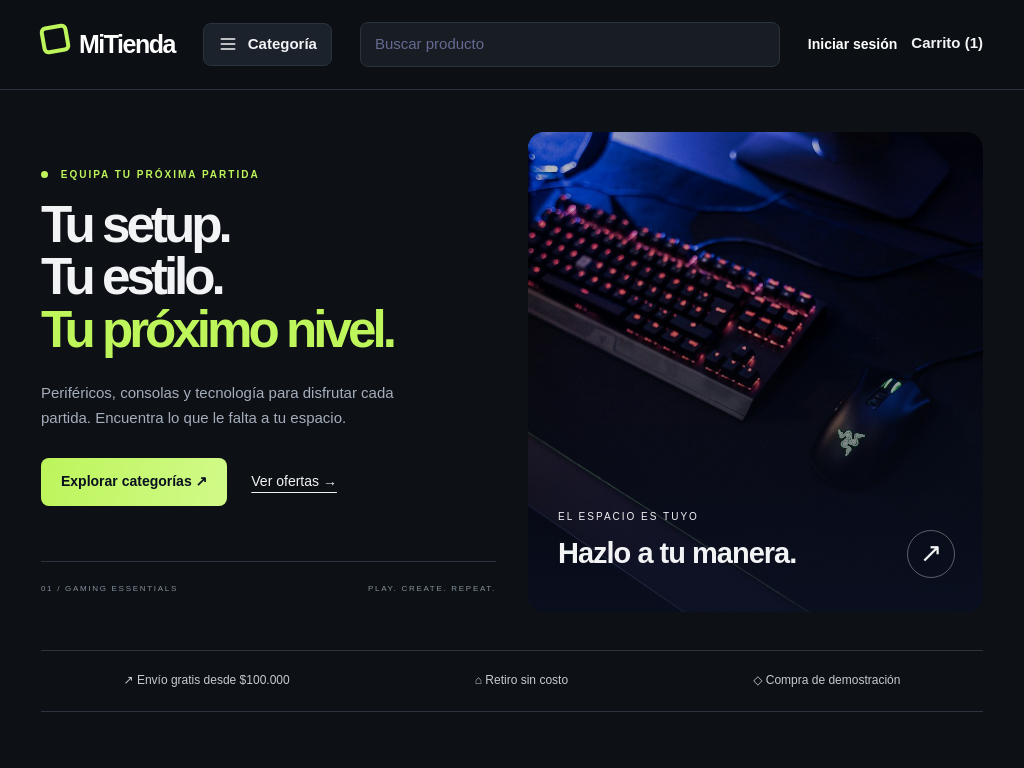
Test: Rutas y administración › UI34 login emergente se abre desde la tienda
This screenshot has width=1024, height=768.
Click the button "Iniciar sesión": point(853, 44) [808, 36, 897, 52]
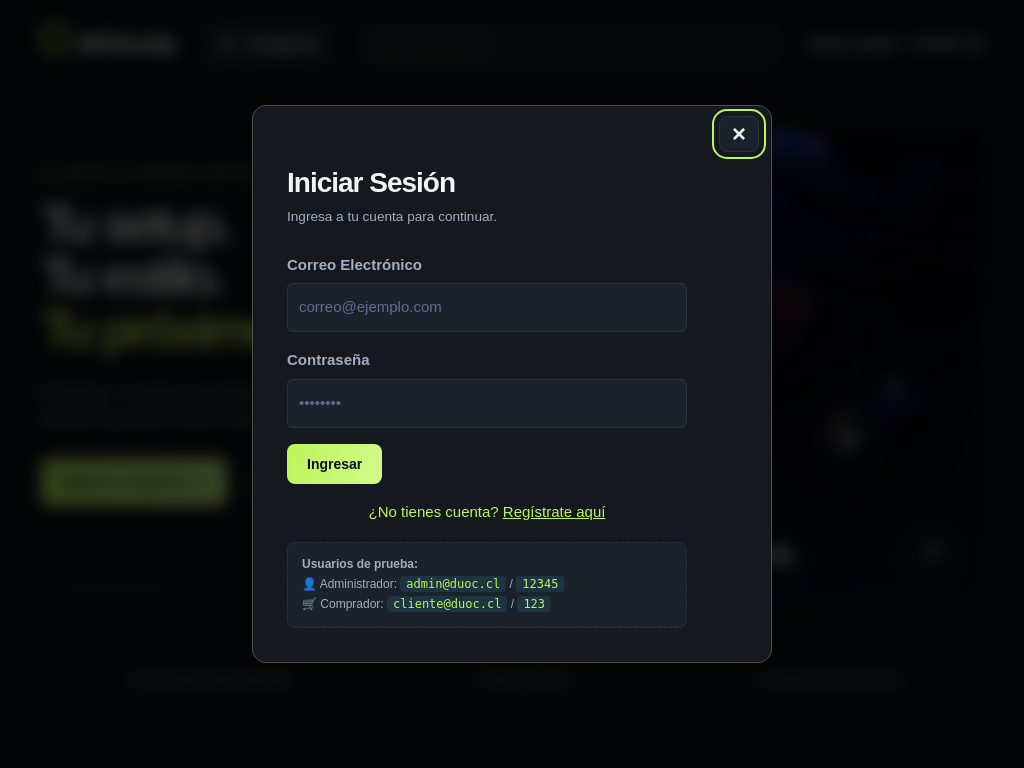
Click the button named "Cerrar inicio de sesión": point(739, 134) [719, 116, 759, 152]
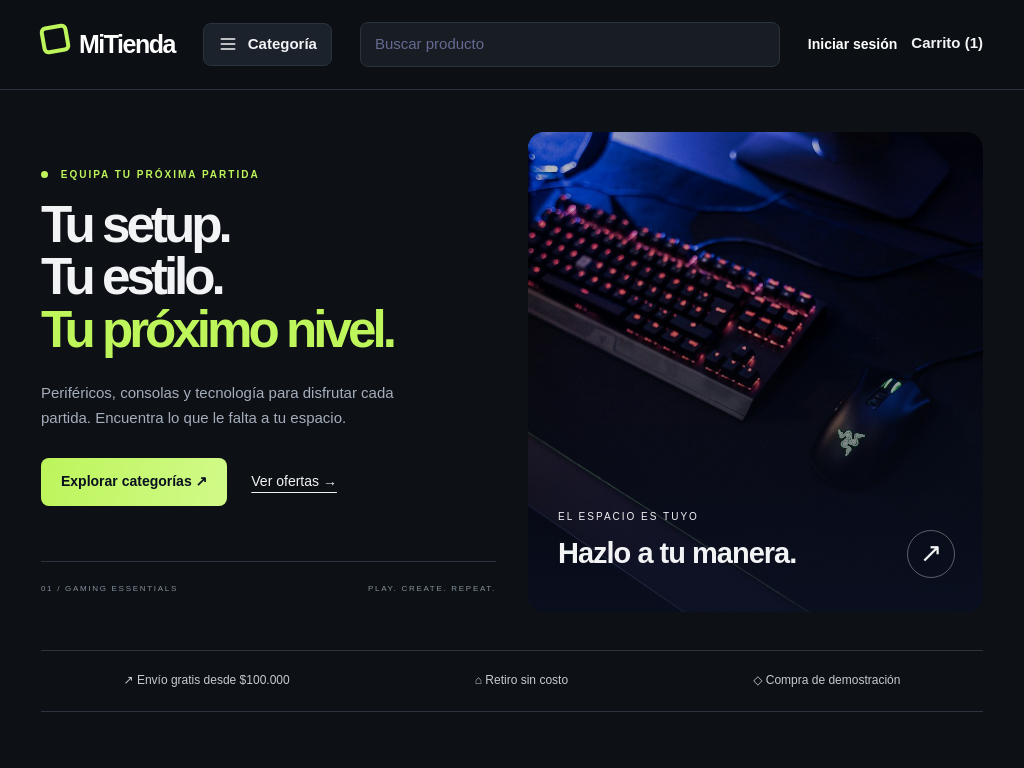
Now the dialog is gone
